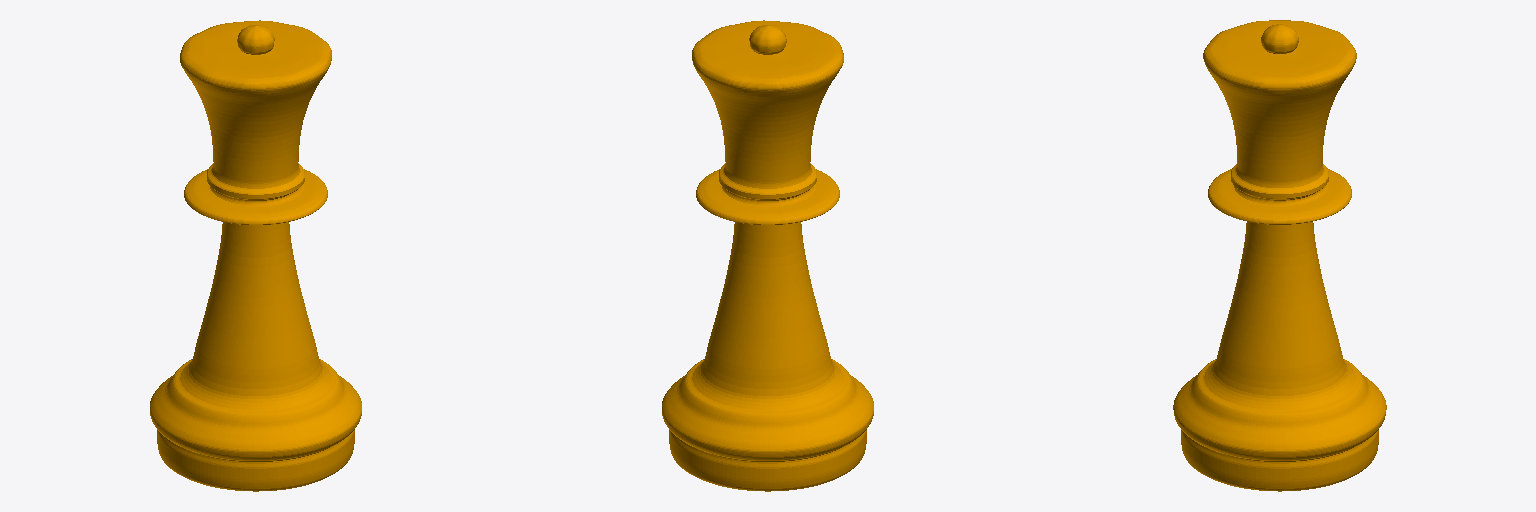
robot.urdf — queen:
<?xml version='1.0' encoding='utf-8'?>
<robot name="queen"><link name="queen"><inertial><origin xyz="1.0323654788759311e-19 -2.8246896686666327e-19 0.01301862375437701" rpy="0 0 0" /><mass value="0.003" /><inertia ixx="3.686599965804817e-07" iyy="3.686599965804817e-07" izz="1.2481998794555694e-07" ixy="0" ixz="0" iyz="0" /></inertial><visual><geometry><mesh filename="queen.obj" /></geometry></visual><collision><geometry><mesh filename="collision/queen_00.obj" /></geometry></collision><collision><geometry><mesh filename="collision/queen_01.obj" /></geometry></collision><collision><geometry><mesh filename="collision/queen_02.obj" /></geometry></collision><collision><geometry><mesh filename="collision/queen_03.obj" /></geometry></collision><collision><geometry><mesh filename="collision/queen_04.obj" /></geometry></collision><collision><geometry><mesh filename="collision/queen_05.obj" /></geometry></collision><collision><geometry><mesh filename="collision/queen_06.obj" /></geometry></collision><collision><geometry><mesh filename="collision/queen_07.obj" /></geometry></collision><collision><geometry><mesh filename="collision/queen_08.obj" /></geometry></collision><collision><geometry><mesh filename="collision/queen_09.obj" /></geometry></collision><collision><geometry><mesh filename="collision/queen_10.obj" /></geometry></collision><collision><geometry><mesh filename="collision/queen_11.obj" /></geometry></collision><collision><geometry><mesh filename="collision/queen_12.obj" /></geometry></collision><collision><geometry><mesh filename="collision/queen_13.obj" /></geometry></collision><collision><geometry><mesh filename="collision/queen_14.obj" /></geometry></collision><collision><geometry><mesh filename="collision/queen_15.obj" /></geometry></collision><collision><geometry><mesh filename="collision/queen_16.obj" /></geometry></collision><collision><geometry><mesh filename="collision/queen_17.obj" /></geometry></collision></link></robot>

--- What the picture shows (computed from the rendered views, not written in the file) ---
The picture shows the robot from 3 angles, left to right: view 1: azimuth 30°, elevation 25°; view 2: azimuth 150°, elevation 25°; view 3: azimuth 270°, elevation 25°; orthographic projection.
Robot: queen — 1 links, 0 joints (none); root link queen; default pose: all joints at 0.
Visible links, largest first — view 1: queen; view 2: queen; view 3: queen.
Boxes of the visible links, x1,y1,x2,y2 form: queen: [150, 20, 361, 491]; queen: [662, 20, 873, 491]; queen: [1173, 20, 1386, 491].
Size in the robot's own frame: 0.0158 by 0.0158 by 0.035 metres.
1 mesh visuals loaded from 1 distinct referenced files (1 OBJ).
